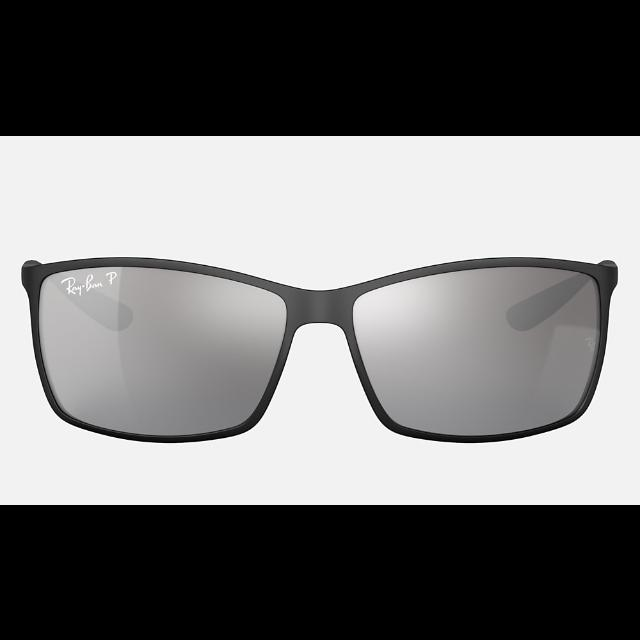Sunglasses: (21, 255, 617, 442)
